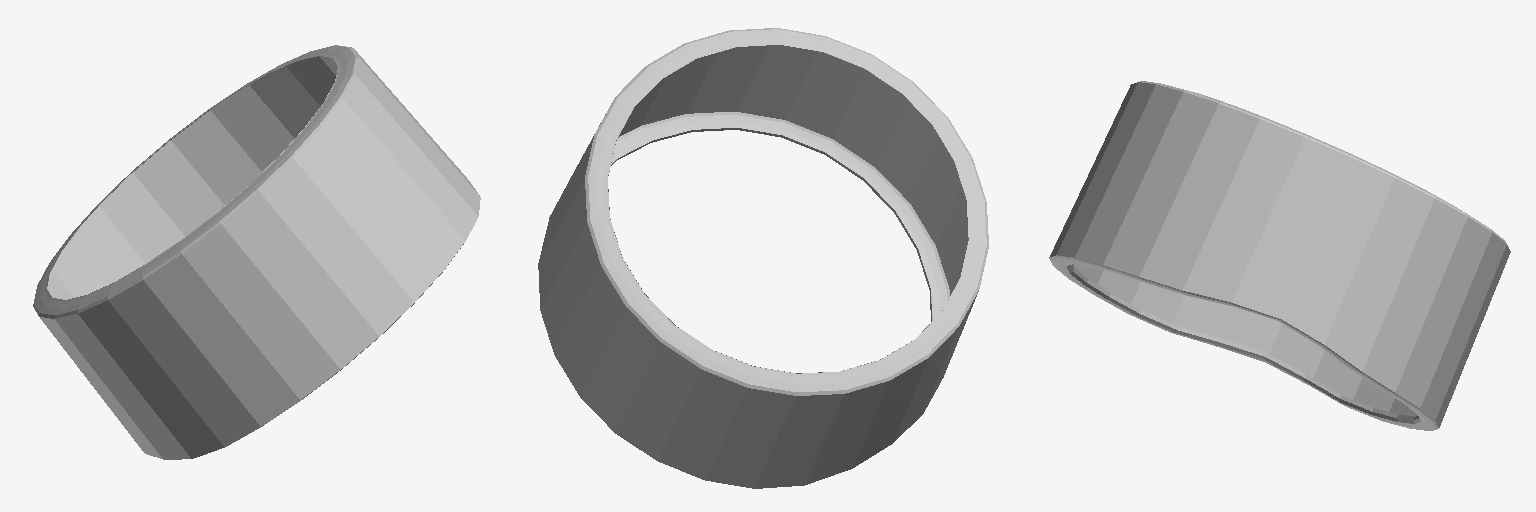
Rendered from SubTool-9-16253749.OBJ.
The picture shows the model from 3 angles: view 1: azimuth 30°, elevation 25°; view 2: azimuth 150°, elevation 25°; view 3: azimuth 270°, elevation 25°; orthographic projection.
Parts seen in each view (by area): view 1: Group24; view 2: Group24; view 3: Group24.
Part boxes in pixels (bbox=[...]): Group24: bbox=[33, 45, 480, 459]; Group24: bbox=[538, 28, 988, 488]; Group24: bbox=[1049, 81, 1510, 430].
Bounding box in the file's own units: 2.88 × 2.61 × 2.93.